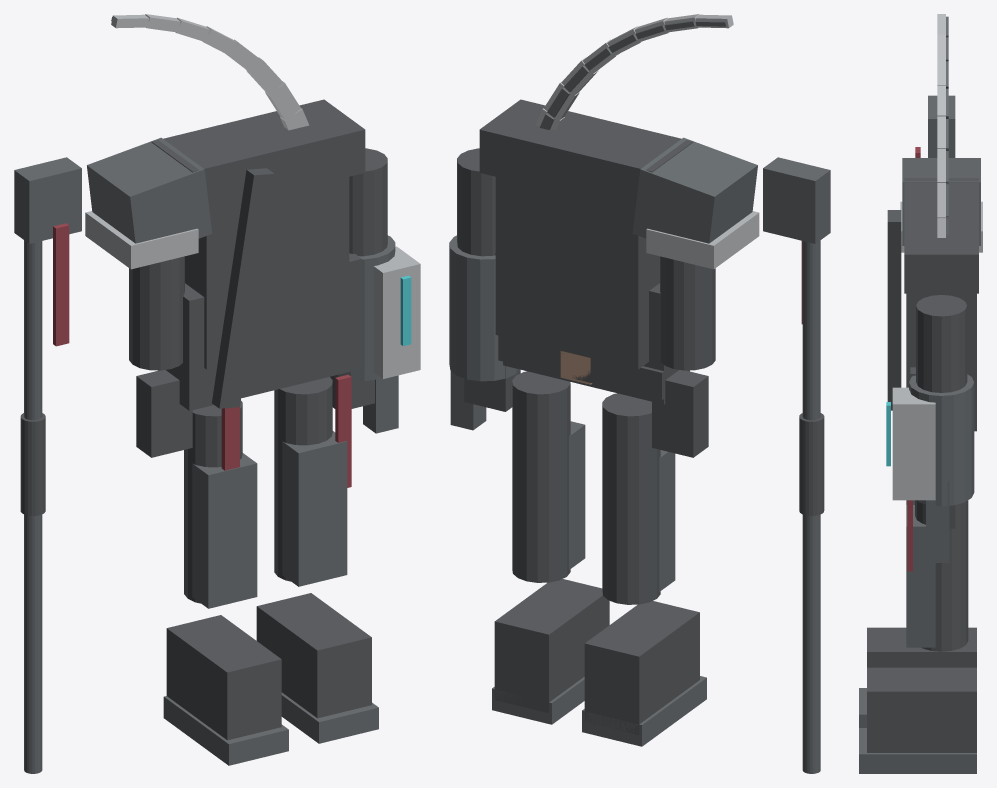
The model's file is ain_outfit_05_Hongrin_v01.glb.
3 renders of one model, left to right at view 1: azimuth 30°, elevation 25°; view 2: azimuth 150°, elevation 25°; view 3: azimuth 270°, elevation 25°, orthographic. The views are drawn at different scales.
Parts seen in each view (by area): view 1: torso_shell, shoulder_yoke, boot_L, boot_R, left_shoulder_plate, shin_plate_R, shin_plate_L, short_jacket, scythe_shaft_4, asym_harness_5, sleeve_L, right_gauntlet_spine (+17 smaller); view 2: torso_shell, shoulder_yoke, leg_base_R, boot_L, leg_base_L, boot_R, left_shoulder_plate, scythe_shaft_4, right_gauntlet, sleeve_L, scythe_head_base_4, pouch_L (+12 smaller); view 3: boot_R, shoulder_yoke, right_gauntlet, sleeve_R, right_gauntlet_spine, leg_base_R, shin_plate_R, boot_L, asym_harness_5, boot_sole_R, torso_shell, left_shoulder_plate (+11 smaller).
Part boxes in pixels (<box>): torso_shell: <box>185,177,349,369</box>; shoulder_yoke: <box>151,99,365,210</box>; boot_L: <box>166,615,281,740</box>; boot_R: <box>256,593,371,718</box>; left_shoulder_plate: <box>87,137,212,243</box>; shin_plate_R: <box>282,431,347,586</box>; shin_plate_L: <box>192,453,257,608</box>; short_jacket: <box>166,253,361,410</box>; scythe_shaft_4: <box>24,240,42,773</box>; asym_harness_5: <box>212,168,274,408</box>; sleeve_L: <box>129,256,184,370</box>; right_gauntlet_spine: <box>373,246,420,378</box>; torso_shell: <box>495,177,659,369</box>; shoulder_yoke: <box>479,99,693,210</box>; leg_base_R: <box>512,371,570,582</box>; boot_L: <box>584,601,699,734</box>; leg_base_L: <box>602,393,660,604</box>; boot_R: <box>494,579,609,713</box>; left_shoulder_plate: <box>632,137,757,243</box>; scythe_shaft_4: <box>802,240,820,773</box>; right_gauntlet: <box>449,235,519,381</box>; sleeve_L: <box>660,256,715,370</box>; scythe_head_base_4: <box>763,157,830,243</box>; pouch_L: <box>652,370,708,457</box>; boot_R: <box>867,667,976,752</box>; shoulder_yoke: <box>904,178,978,293</box>; right_gauntlet: <box>909,374,974,506</box>; sleeve_R: <box>916,295,967,392</box>; right_gauntlet_spine: <box>892,387,935,500</box>; leg_base_R: <box>915,500,968,651</box>; shin_plate_R: <box>906,505,935,647</box>; boot_L: <box>867,627,976,667</box>; asym_harness_5: <box>887,210,901,410</box>; boot_sole_R: <box>859,728,976,773</box>; torso_shell: <box>906,293,976,431</box>; left_shoulder_plate: <box>902,158,980,245</box>.
Bounding box in the file's own units: 0.99 × 1.87 × 0.315.
